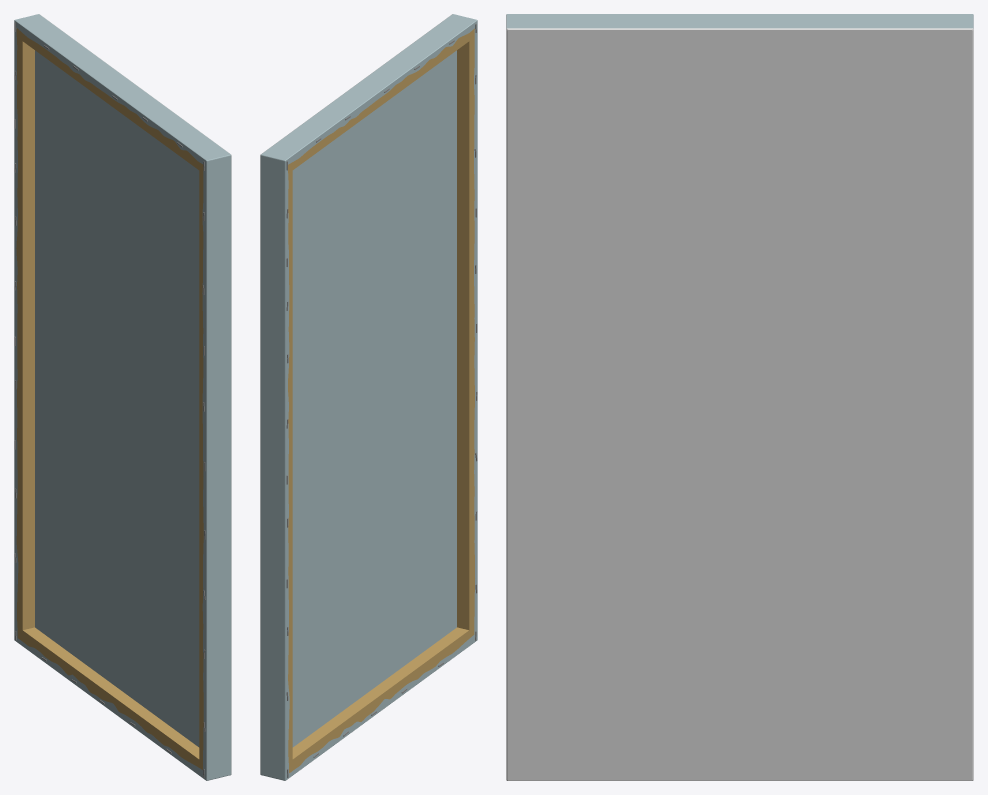
The model's file is canvasV1.gltf.
The picture shows the model from 3 angles, left to right: view 1: azimuth 30°, elevation 25°; view 2: azimuth 150°, elevation 25°; view 3: azimuth 270°, elevation 25°; orthographic projection. The views are drawn at different scales.
Visible parts, largest first — view 1: 16by9 template.001; view 2: 16by9 template.001; view 3: 16by9 template.001.
Part boxes in pixels (<box>): 16by9 template.001: <box>14,14,231,780</box>; 16by9 template.001: <box>260,14,477,780</box>; 16by9 template.001: <box>506,14,973,780</box>.
Bounding box in the file's own units: 0.1579 × 3.55 × 2.
